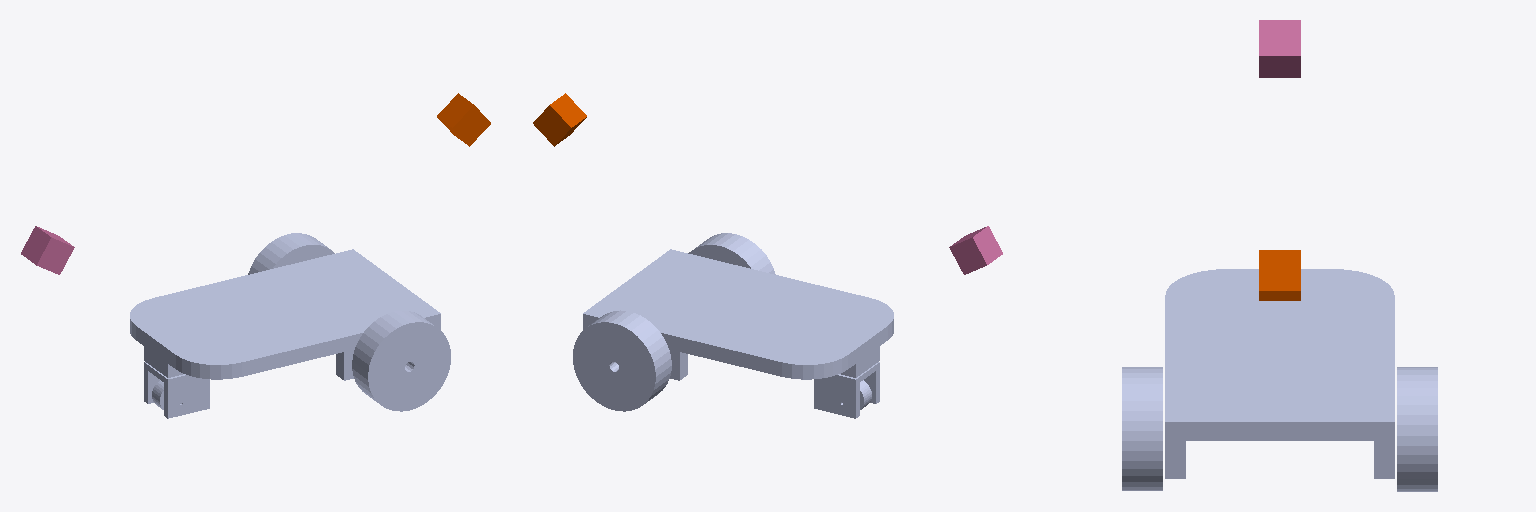
URDF robot description (duckiebot_1):
<robot
  name="duckiebot_1">
  <gazebo>
    <plugin filename="libgazebo_ros_diff_drive.so" name="differential_drive_controller">
      <legacyMode>false</legacyMode>
      <alwaysOn>true</alwaysOn>
      <updateRate>10</updateRate>
      <leftJoint>lwheel_joint</leftJoint>
      <rightJoint>rwheel_joint</rightJoint>
      <wheelSeparation>0.4</wheelSeparation>
      <wheelDiameter>0.2</wheelDiameter>
      <torque>10</torque>
      <commandTopic>cmd_vel</commandTopic>
      <odometryTopic>odom</odometryTopic>
      <odometryFrame>odom</odometryFrame>
      <robotBaseFrame>base_link</robotBaseFrame>
    </plugin>
  </gazebo>

  <gazebo reference="camera">
    <material>Gazebo/Blue</material>
    <sensor name="camera_1" type="camera">
      <update_rate>30</update_rate>
      <camera name="head">
        <horizontal_fov>1.7</horizontal_fov>
        <image>
          <width>1920</width>
          <height>1440</height>
          <format>R8G8B8</format>
        </image>
        <clip>
          <near>0.1</near>
          <far>200</far>
        </clip>
      </camera>
      <plugin filename="libgazebo_ros_camera.so" name="camera_controller">
        <alwaysOn>true</alwaysOn>
        <updateRate>0.0</updateRate>
        <cameraName>front/camera_node</cameraName>
        <imageTopicName>image/raw</imageTopicName>
        <cameraInfoTopicName>camera_info</cameraInfoTopicName>
        <frameName>camera</frameName>
        <hackBaseline>0.07</hackBaseline>
      </plugin>
    </sensor>
  </gazebo>

  <gazebo reference="camera_2">
    <material>Gazebo/Red</material>
    <sensor name="camera_2" type="camera">
      <update_rate>30</update_rate>
      <camera name="head_2">
        <horizontal_fov>1.7</horizontal_fov>
        <image>
          <width>1920</width>
          <height>1440</height>
          <format>R8G8B8</format>
        </image>
        <clip>
          <near>0.1</near>
          <far>200</far>
        </clip>
      </camera>
      <plugin filename="libgazebo_ros_camera.so" name="camera_controller">
        <alwaysOn>true</alwaysOn>
        <updateRate>0.0</updateRate>
        <cameraName>back/camera_node</cameraName>
        <imageTopicName>image/raw</imageTopicName>
        <cameraInfoTopicName>camera_info</cameraInfoTopicName>
        <frameName>camera</frameName>
        <hackBaseline>0.07</hackBaseline>
      </plugin>
    </sensor>
  </gazebo>
  <link
    name="base_link">
    <inertial>
      <origin
        xyz="-0.0101024393214371 2.77555756156289E-17 -0.00724903839291099"
        rpy="0 0 0" />
      <mass
        value="22.4144467859455" /> <!--0.224144467859455-->
      <inertia
        ixx="0.0262333315558155"  
        ixy="-9.46739929586217E-20" 
        ixz="1.25847877839234E-05"
        iyy="0.0594458638144052"
        iyz="3.28272538130837E-20"
        izz="0.0839695132659337" /><!--xx yy zz*100-->
    </inertial>
    <visual>
      <ori
        xyz="0 0 0"
        rpy="0 0 0" />
      <geometry>
        <mesh
          filename="package://duckiebot_1/meshes/base_link.STL" />
      </geometry>
      <material
        name="">
        <color
          rgba="0.792156862745098 0.819607843137255 0.933333333333333 1" />
      </material>
    </visual>
    <collision>
      <origin
        xyz="0 0 0"
        rpy="0 0 0" />
      <geometry>
        <mesh
          filename="package://duckiebot_1/meshes/base_link.STL" />
      </geometry>
    </collision>
  </link>
  <link
    name="lwheel_link">
    <inertial>
      <origin
        xyz="0 -0.01 1.38777878078145E-17"
        rpy="0 0 0" />
      <mass
        value="5.57789775644867" /> <!--0.055778977-->
      <inertia
        ixx="145.803923229503E-05"
        ixy="-1.99984150579823E-21"
        ixz="1.05546145898492E-21"
        iyy="254.421861416015E-05"
        iyz="-3.05243290373849E-21"
        izz="145.803923229503E-05" /> <!--xx yy zz*100-->
    </inertial>
    <visual>
      <origin
        xyz="0 0 0"
        rpy="0 0 0" />
      <geometry>
        <mesh
          filename="package://duckiebot_1/meshes/lwheel_link.STL" />
      </geometry>
      <material
        name="">
        <color
          rgba="0.792156862745098 0.819607843137255 0.933333333333333 1" />
      </material>
    </visual>
    <collision>
      <origin
        xyz="0 0 0"
        rpy="0 0 0" />
      <geometry>
        <mesh
          filename="package://duckiebot_1/meshes/lwheel_link.STL" />
      </geometry>
    </collision>
  </link>
  <joint
    name="lwheel_joint"
    type="continuous">
    <origin
      xyz="0.037 0.076 -0.02"
      rpy="0 0 0" />
    <parent
      link="base_link" />
    <child
      link="lwheel_link" />
    <axis
      xyz="0 1 0" />
  </joint>
  <link
    name="rwheel_link">
    <inertial>
      <origin
        xyz="0 0.01 1.38777878078145E-17"
        rpy="0 0 0" />
      <mass
        value="5.57789775644868" />  <!--0.055778977-->
      <inertia
        ixx="145.803923229503E-05"
        ixy="4.60062935577484E-21"
        ixz="-6.46471806336693E-23"
        iyy="254.421861416015E-05"
        iyz="-3.87738072626345E-21"
        izz="145.803923229503E-05" /> 
    </inertial>
    <visual>
      <origin
        xyz="0 0 0"
        rpy="0 0 0" />
      <geometry>
        <mesh
          filename="package://duckiebot_1/meshes/rwheel_link.STL" />
      </geometry>
      <material
        name="">
        <color
          rgba="0.792156862745098 0.819607843137255 0.933333333333333 1" />
      </material>
    </visual>
    <collision>
      <origin
        xyz="0 0 0"
        rpy="0 0 0" />
      <geometry>
        <mesh
          filename="package://duckiebot_1/meshes/rwheel_link.STL" />
      </geometry>
    </collision>
  </link>
  <joint
    name="rwheel_joint"
    type="continuous">
    <origin
      xyz="0.037 -0.076 -0.02"
      rpy="0 0 0" />
    <parent
      link="base_link" />
    <child
      link="rwheel_link" />
    <axis
      xyz="0 1 0" />
  </joint>
  <link
    name="wheelconnect_link">
    <inertial>
      <origin
        xyz="1.50048594515827E-05 0 -0.010847034957063"
        rpy="0 0 0" />
      <mass
        value="0.913938040025901" /> <!--0.009139380-->
      <inertia
        ixx="160.355093188034E-06"
        ixy="-7.73413872737081E-23"
        ixz="1.58787191951214E-09"
        iyy="110.422623295413E-06"
        iyz="1.24825890806269E-22"
        izz="179.481242782248E-06" /> <!--xx yy zz*100-->
    </inertial>
    <visual>
      <origin
        xyz="0 0 0"
        rpy="0 0 0" />
      <geometry>
        <mesh
          filename="package://duckiebot_1/meshes/wheelconnect_link.STL" />
      </geometry>
      <material
        name="">
        <color
          rgba="0.792156862745098 0.819607843137255 0.933333333333333 1" />
      </material>
    </visual>
    <collision>
      <origin
        xyz="0 0 0"
        rpy="0 0 0" />
      <geometry>
        <mesh
          filename="package://duckiebot_1/meshes/wheelconnect_link.STL" />
      </geometry>
    </collision>
  </link>
  <joint
    name="connect_joint"
    type="continuous">
    <origin
      xyz="-0.087 0 -0.021"
      rpy="-5.39137043987863E-16 -2.12238359091467E-18 -0.00393661064679745" />
    <parent
      link="base_link" />
    <child
      link="wheelconnect_link" />
    <axis
      xyz="0 0 1" />
  </joint>
  <link
    name="swheel_link">
    <inertial>
      <origin
        xyz="-2.16840434497101E-18 -0.00500000000000003 0"
        rpy="0 0 0" />
      <mass
        value="0.31101767270539" />  <!--0.00311017-->
      <inertia
        ixx="104.450101750227E-07"
        ixy="-2.25665210862123E-23"
        ixz="-1.86856433439062E-23"
        iyy="157.063924716222E-07"
        iyz="5.78702483149728E-23"
        izz="104.450101750227E-07" />   <!--xx yy zz*100-->
    </inertial>
    <visual>
      <origin
        xyz="0 0 0"
        rpy="0 0 0" />
      <geometry>
        <mesh
          filename="package://duckiebot_1/meshes/swheel_link.STL" />
      </geometry>
      <material
        name="">
        <color
          rgba="0.792156862745098 0.819607843137255 0.933333333333333 1" />
      </material>
    </visual>
    <collision>
      <origin
        xyz="0 0 0"
        rpy="0 0 0" />
      <geometry>
        <mesh
          filename="package://duckiebot_1/meshes/swheel_link.STL" />
      </geometry>
    </collision>
  </link>
  <joint
    name="swheel_joint"
    type="continuous">
    <origin
      xyz="-0.00500000000000001 0.005 -0.019"
      rpy="-9.86076131526265E-32 0 5.8113236445223E-17" />
    <parent
      link="wheelconnect_link" />
    <child
      link="swheel_link" />
    <axis
      xyz="0 -1 0" />
  </joint>
  <link name="camera">
    <collision>
      <origin rpy="0 0.1 0" xyz="0 0 0"/>
      <geometry>
        <box size="0.02 0.02 0.02"/>
      </geometry>
    </collision>
    <visual>
      <origin rpy="0 0 0" xyz="0 0 0"/>
      <geometry>
        <box size="0.02 0.02 0.02"/>
      </geometry>
    </visual>
    <inertial>
      <mass value="0.01"/>
      <origin rpy="0 0 0" xyz="0 0 0"/>
      <box_inertia m="0.1" x="0.02" y="0.02" z="0.02"/>
      <inertia ixx="1e-6" ixy="0" ixz="0" iyy="1e-6" iyz="0" izz="1e-6"/>
    </inertial>
  </link>
  <joint name="camera_joint" type="fixed">
    <axis xyz="0 0 0"/>
    <origin rpy="0 0.9 0" xyz=".12 0 .1"/>
    <parent link="base_link"/>
    <child link="camera"/>
  </joint>

  <link name="camera_2">
    <collision>
      <origin rpy="0 0.1 0" xyz="0 0 0"/>
      <geometry>
        <box size="0.02 0.02 0.02"/>
      </geometry>
    </collision>
    <visual>
      <origin rpy="0 0 0" xyz="0 0 0"/>
      <geometry>
        <box size="0.02 0.02 0.02"/>
      </geometry>
    </visual>
    <inertial>
      <mass value="0.01"/>
      <origin rpy="0 0 0" xyz="0 0 0"/>
      <box_inertia m="0.1" x="0.02" y="0.02" z="0.02"/>
      <inertia ixx="1e-6" ixy="0" ixz="0" iyy="1e-6" iyz="0" izz="1e-6"/>
    </inertial>
  </link>
  <joint name="camera_joint_2" type="fixed">
    <axis xyz="0 1 0"/>
    <origin rpy="0 1 3.14159" xyz="-0.18 0 .08"/>
    <parent link="base_link"/>
    <child link="camera_2"/>
  </joint>

</robot>

--- Render facts (derived) ---
The picture shows the robot from 3 angles, left to right: view 1: azimuth 30°, elevation 25°; view 2: azimuth 150°, elevation 25°; view 3: azimuth 270°, elevation 25°; orthographic projection.
Robot: duckiebot_1 — 7 links, 6 joints (4 continuous, 2 fixed); root link base_link; default pose: all joints at 0.
Visible links, largest first — view 1: base_link, rwheel_link, wheelconnect_link, lwheel_link, camera_2, camera; view 2: base_link, lwheel_link, wheelconnect_link, rwheel_link, camera_2, camera; view 3: base_link, lwheel_link, rwheel_link, camera_2, camera.
Link boxes in pixels (bbox=[...]): base_link: bbox=[130, 249, 440, 380]; rwheel_link: bbox=[352, 311, 450, 411]; wheelconnect_link: bbox=[144, 362, 209, 418]; lwheel_link: bbox=[248, 233, 334, 274]; camera_2: bbox=[21, 226, 74, 274]; camera: bbox=[437, 93, 490, 146]; base_link: bbox=[583, 249, 893, 380]; lwheel_link: bbox=[573, 310, 671, 411]; wheelconnect_link: bbox=[814, 362, 879, 418]; rwheel_link: bbox=[688, 233, 775, 274]; camera_2: bbox=[949, 226, 1002, 274]; camera: bbox=[533, 93, 586, 146]; base_link: bbox=[1165, 269, 1394, 478]; lwheel_link: bbox=[1397, 367, 1437, 491]; rwheel_link: bbox=[1122, 367, 1162, 490]; camera_2: bbox=[1259, 20, 1300, 77]; camera: bbox=[1259, 250, 1300, 300].
Size in the robot's own frame: 0.3279 by 0.152 by 0.164 metres.
Meshes: 5 distinct files referenced, 5 mesh visuals loaded (5 binary STL).